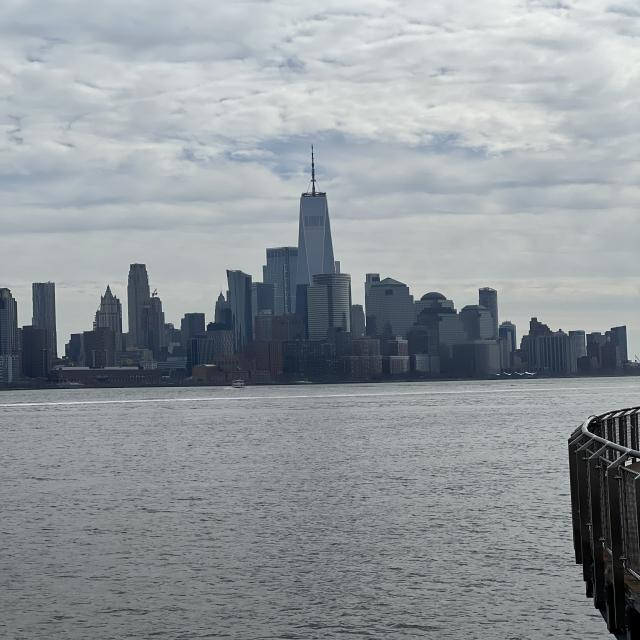WTC: (296, 146, 336, 276)
